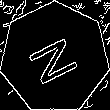N_NE: (24, 28, 86, 87)
